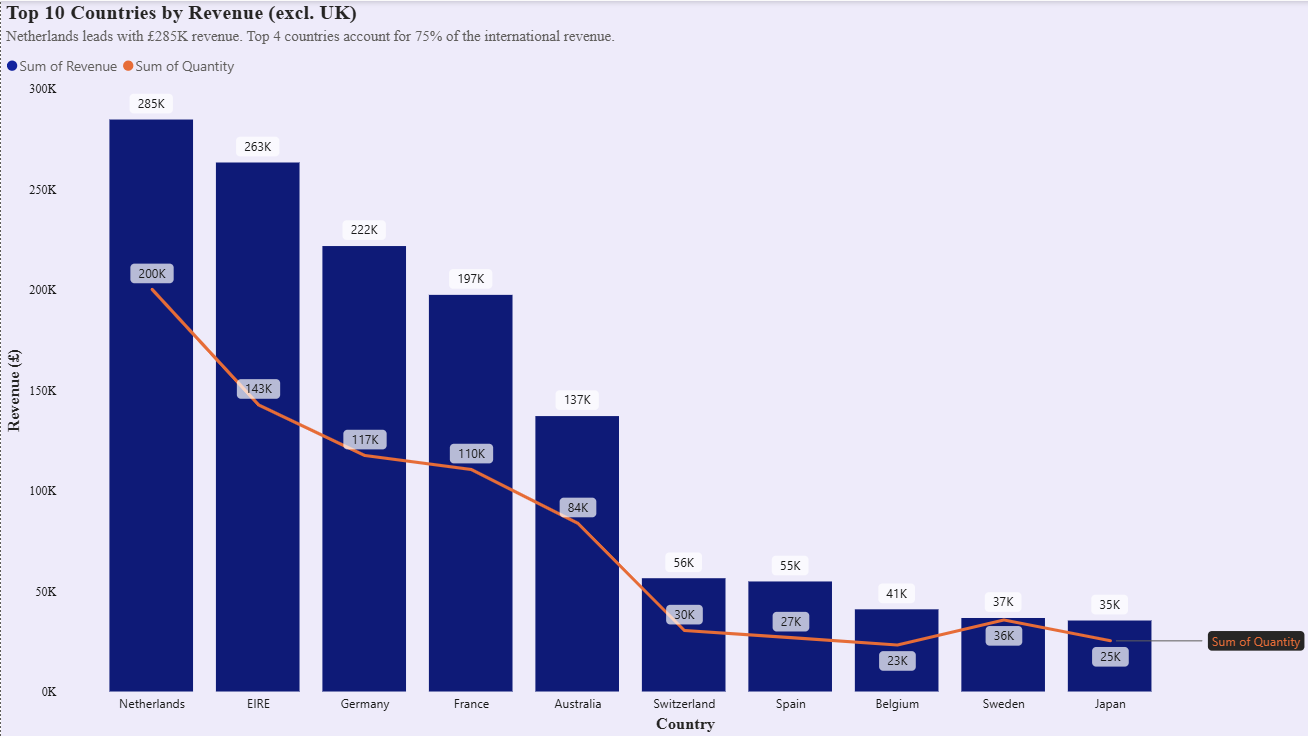

Layout of this report page (visuals, bound fields, positions):
{"tool":"powerbi","page":{"name":"Page 2","canvas":[1280,720],"ordinal":1},"visuals":[{"type":"lineClusteredColumnComboChart","title":"Top 10 Countries by Revenue (excl. UK)","fields":{"Category":["Online Retail.Country"],"Y":["Sum(Online Retail.Revenue)"],"Y2":["Sum(Online Retail.Quantity)"]},"box":[0,0,1280.3,720.2],"z":0}]}

Visuals, with their boxes in screenshot pixels (x1, y1, x2, y2), scaled from the page's 1280x720 canvas onto the 1308x736 screenshot:
"Top 10 Countries by Revenue (excl. UK)" lineClusteredColumnComboChart: bbox=[0, 0, 1307, 735]
